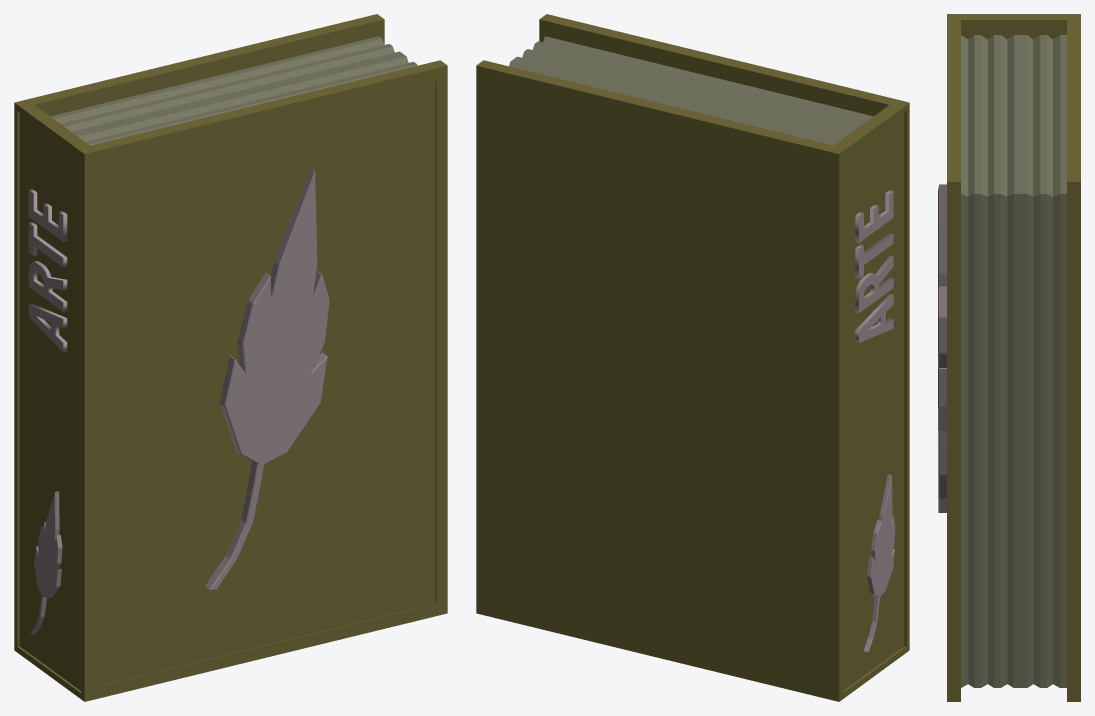
The model's file is LibrosArte (1).fbx.
3 views of the same model, side by side, from view 1: azimuth 30°, elevation 25°; view 2: azimuth 150°, elevation 25°; view 3: azimuth 270°, elevation 25° (orthographic). The views are drawn at different scales.
Parts seen in each view (by area): view 1: LibroArte; view 2: LibroArte; view 3: LibroArte.
Part boxes in pixels (left/top/right/bottom): LibroArte: left=14, top=14, right=447, bottom=701; LibroArte: left=476, top=14, right=909, bottom=701; LibroArte: left=938, top=14, right=1080, bottom=701.
Bounding box in the file's own units: 0.1719 × 0.2436 × 0.0607.
